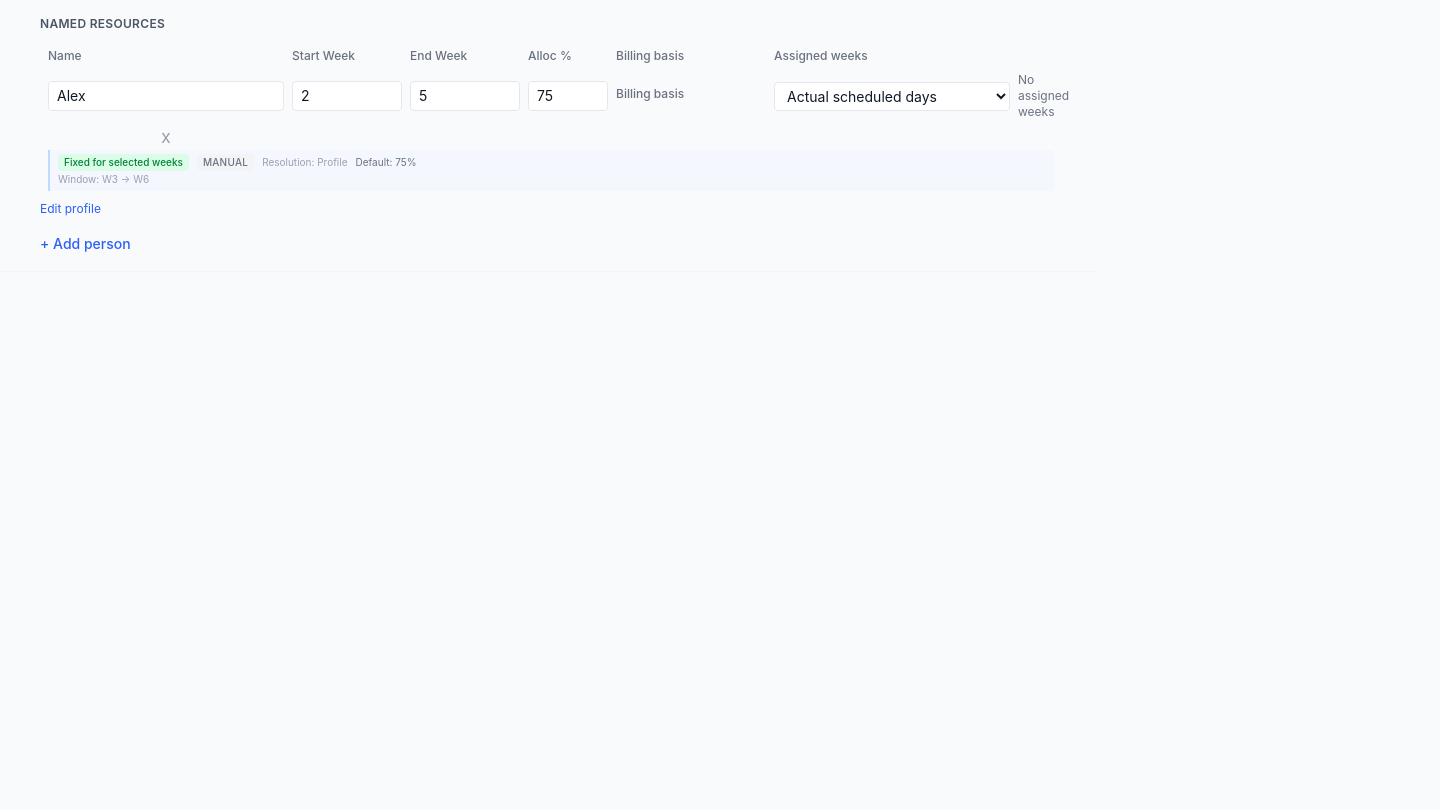
Test: NamedResourcesPanel first-class profile access › opens a manual scalar named-person profile in edit mode
The width and height of the screenshot is (1440, 810).
Click the button "Edit profile".
click(70, 209)  # box [40, 201, 101, 217]
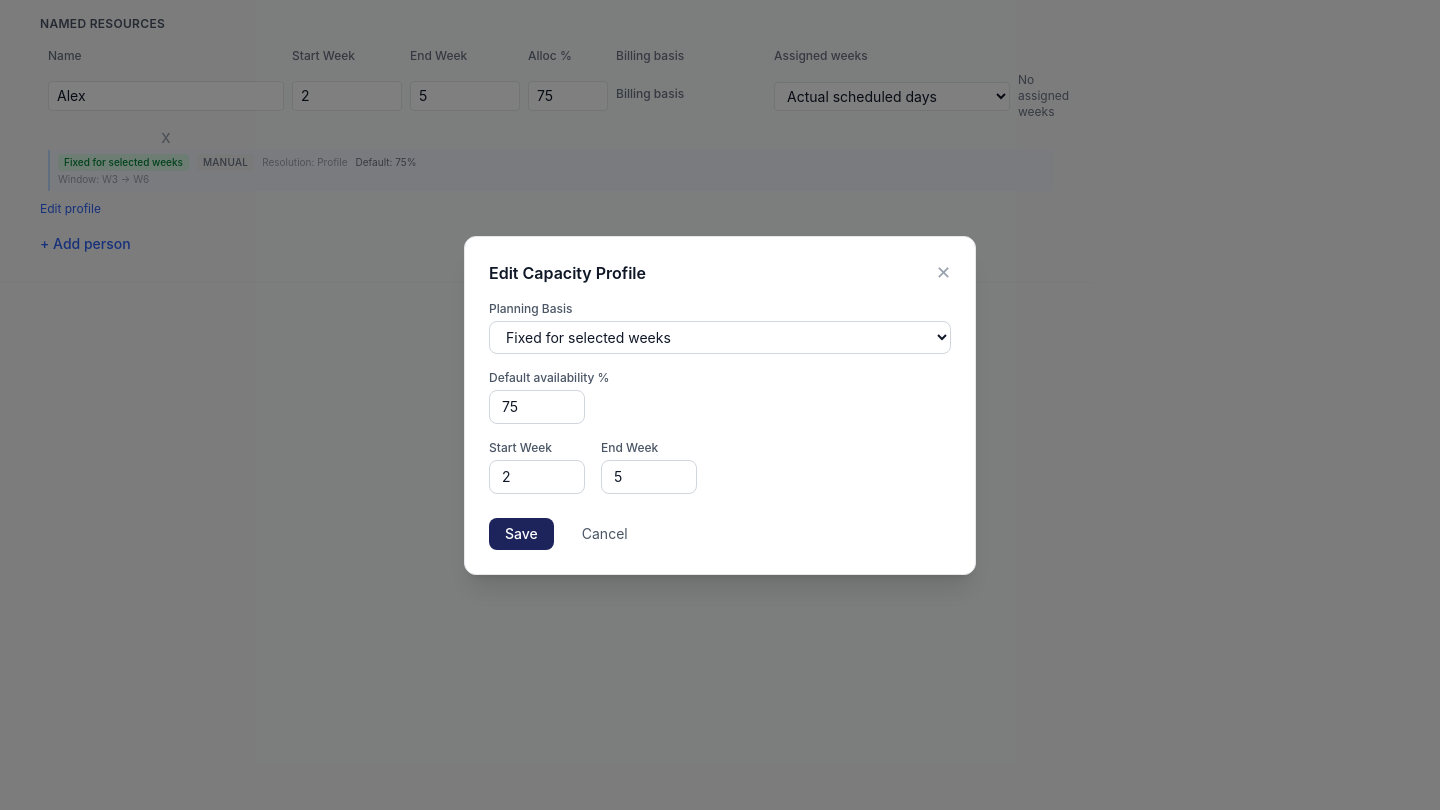
Expected: the heading "Edit Capacity Profile" is shown, [489, 260, 646, 284]
Expected: the number field with test id "cp-default-pct-input" holds "75", [489, 390, 585, 424]
Expected: the number field with test id "cp-start-week-input" holds "2", [489, 460, 585, 494]
